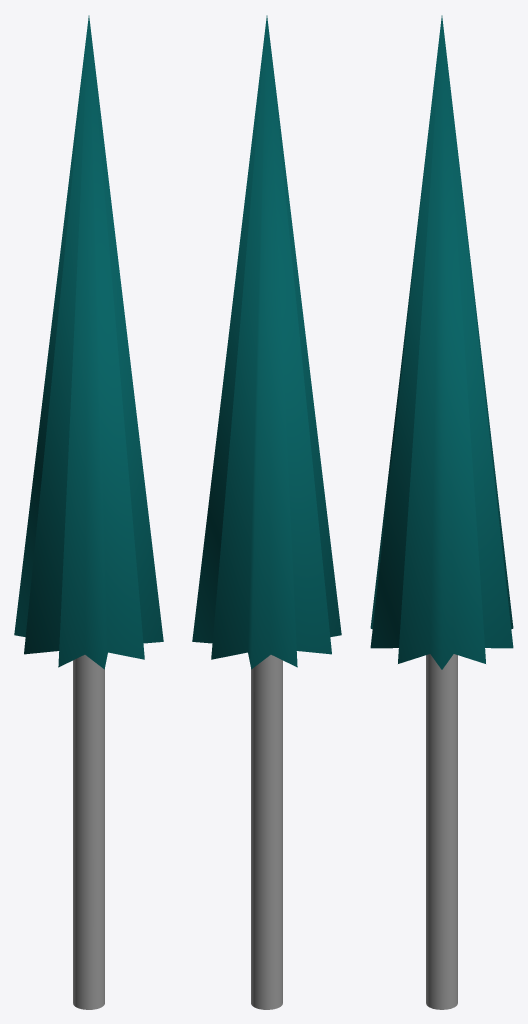
The model's file is Ombrellone chiuso.fbx.
3 views of the same model, side by side, from view 1: azimuth 30°, elevation 25°; view 2: azimuth 150°, elevation 25°; view 3: azimuth 270°, elevation 25° (orthographic).
Parts seen in each view (by area): view 1: polySurface1; view 2: polySurface1; view 3: polySurface1.
Part boxes in pixels (bbox=[...]): polySurface1: bbox=[14, 15, 163, 1009]; polySurface1: bbox=[192, 15, 341, 1009]; polySurface1: bbox=[370, 15, 513, 1009].
Size of the model in its own units: 39.17 by 284 by 37.26.
